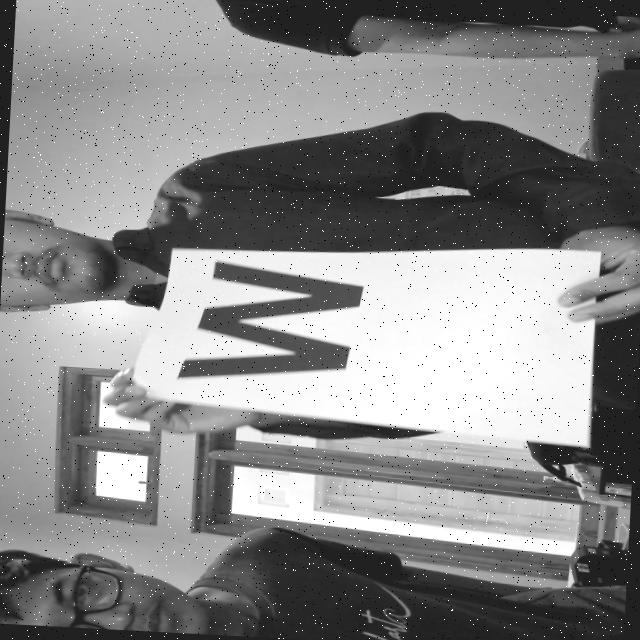w: (160, 242, 390, 403)
